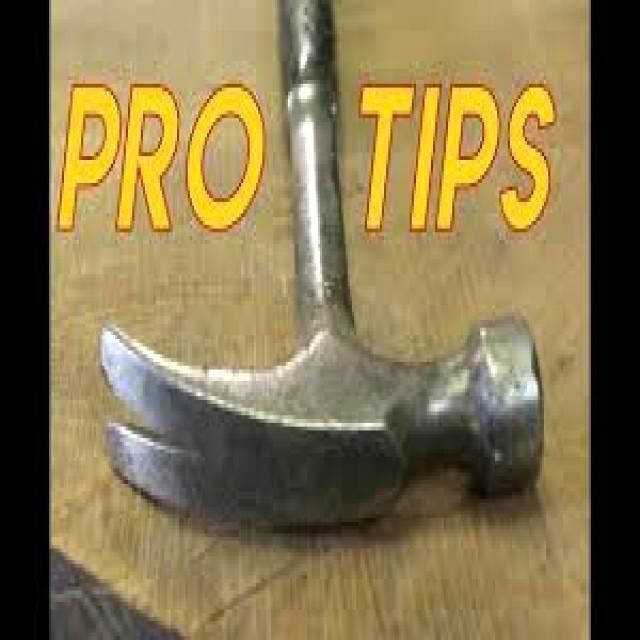hammer: (62, 0, 566, 528)
